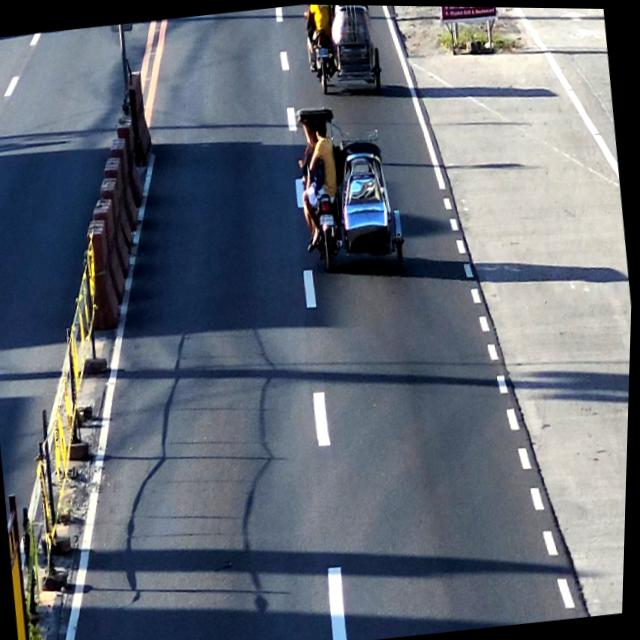License-Plate: (319, 211, 337, 226)
Tricycle: (289, 95, 416, 277), (299, 4, 382, 98)
